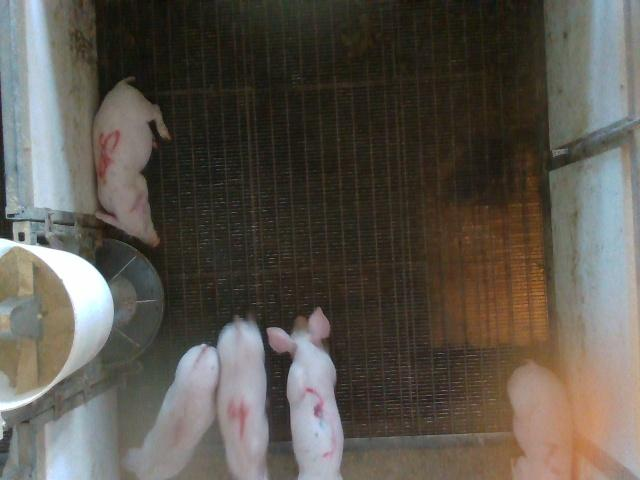pig-1: (124, 344, 219, 479)
pig-2: (508, 361, 572, 479)
pig-3: (266, 308, 344, 478)
pig-4: (218, 316, 269, 479)
pig-5: (94, 78, 170, 246)
